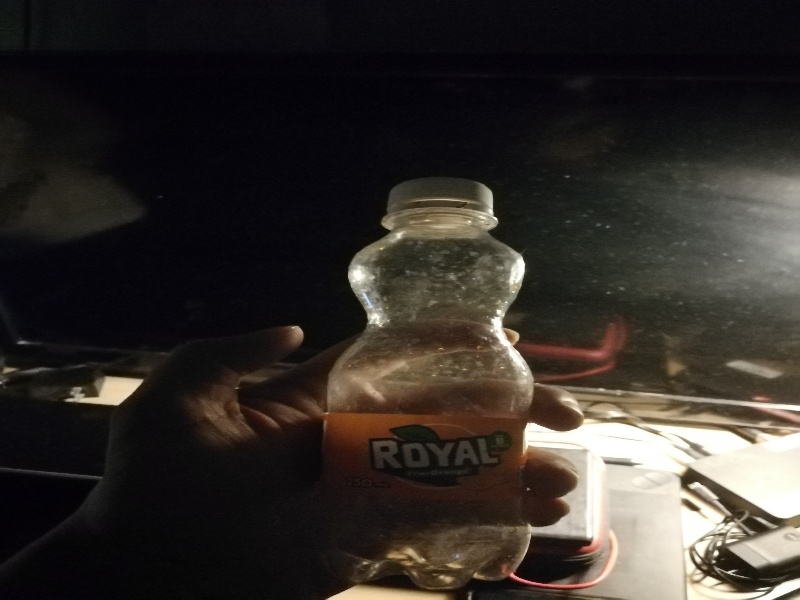PET #1: (322, 174, 532, 582)
